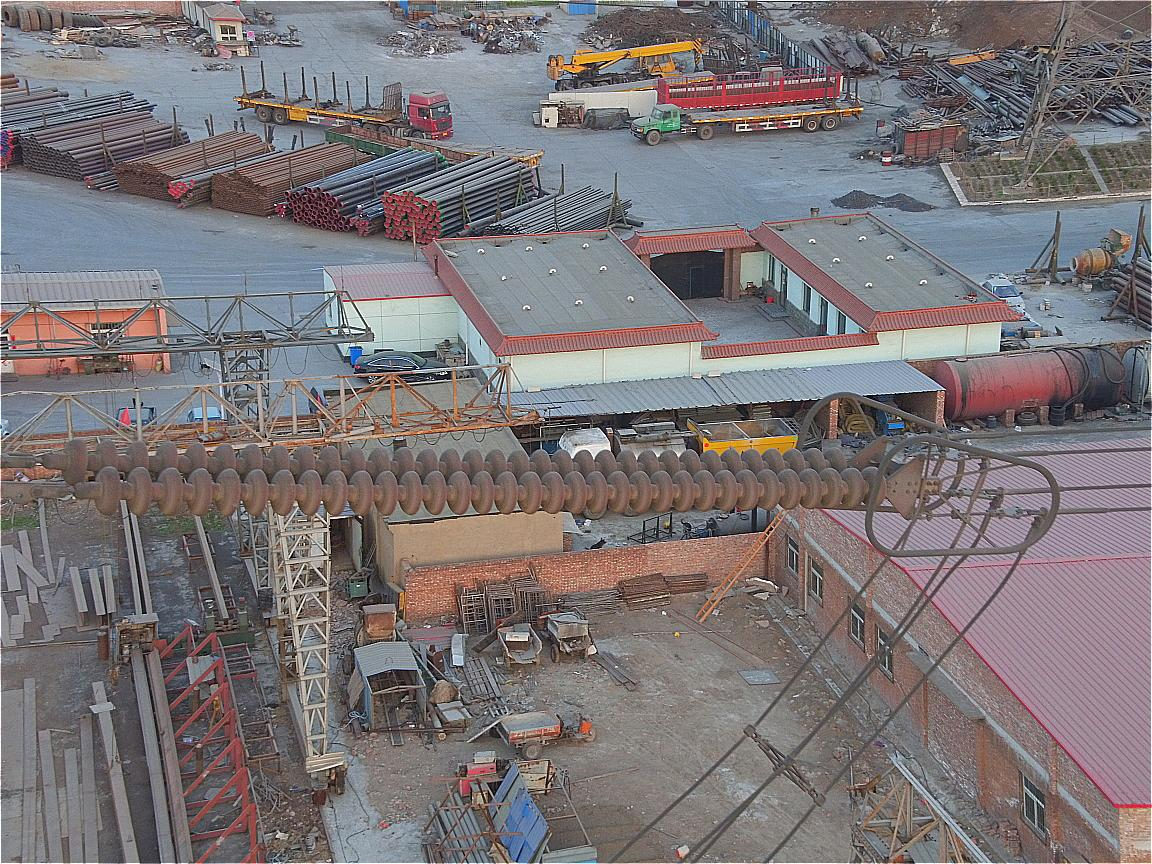insultor1: (65, 422, 925, 540)
